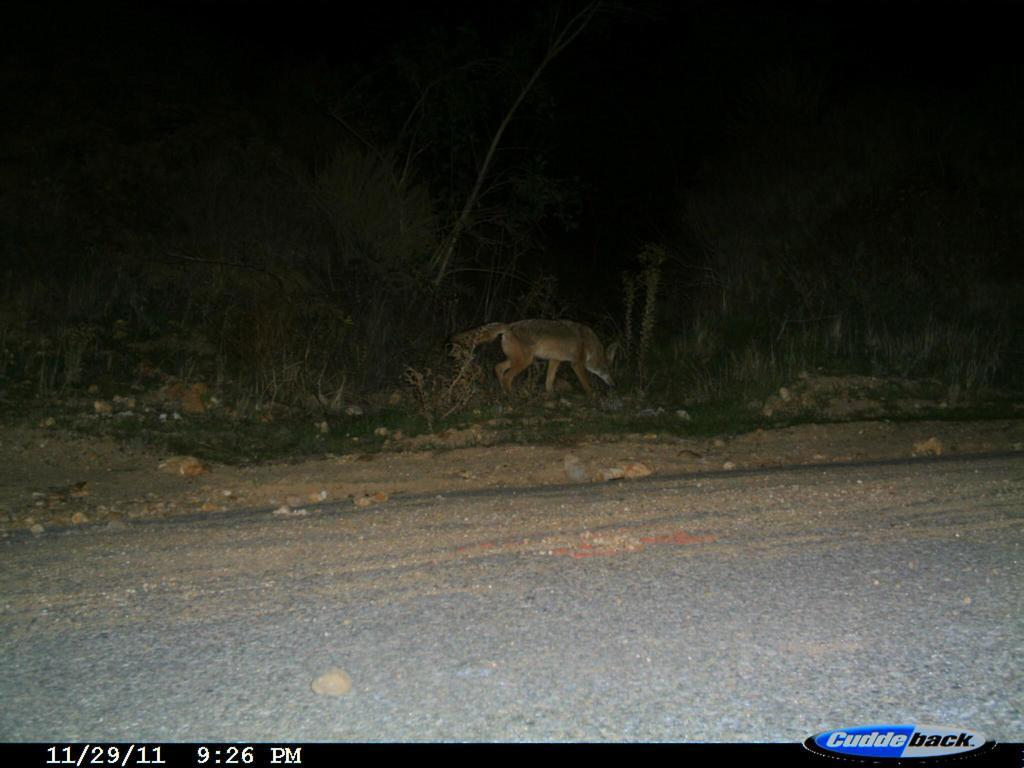coyote: (447, 304, 639, 431)
